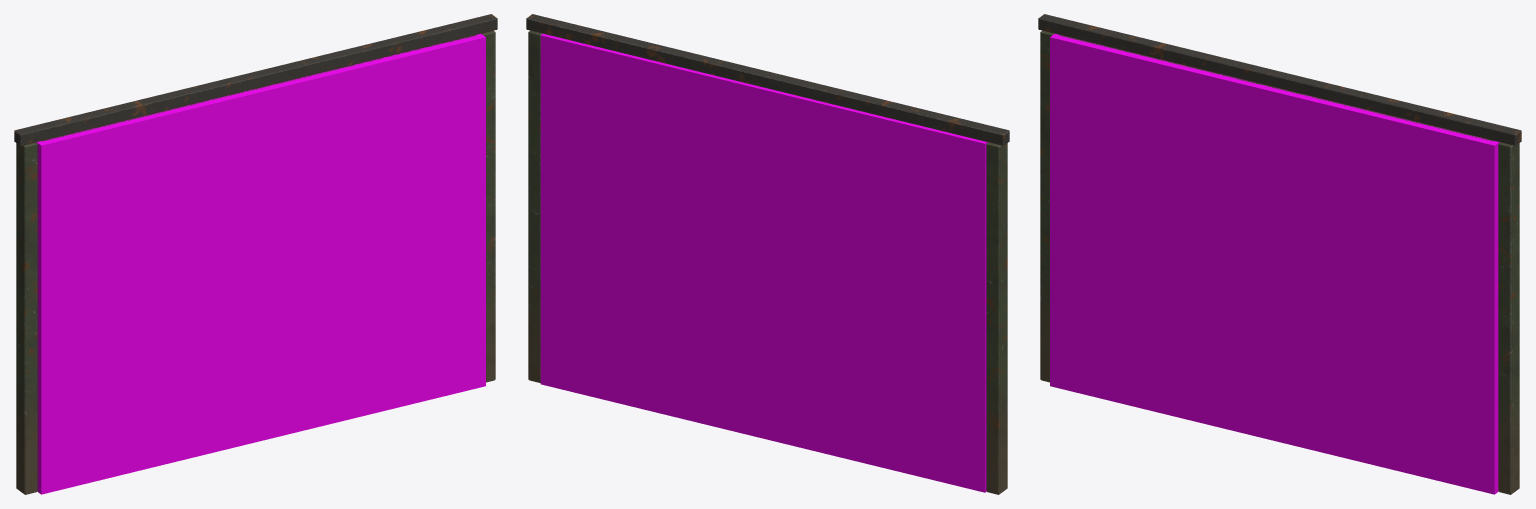
The model's file is prop_door_rail_gate.glb.
The picture shows the model from 3 angles, left to right: view 1: azimuth 30°, elevation 25°; view 2: azimuth 150°, elevation 25°; view 3: azimuth 330°, elevation 25°; orthographic projection.
Visible parts, largest first — view 1: prop_door_rail_gate-col, Frame, Panel; view 2: prop_door_rail_gate-col, Frame; view 3: prop_door_rail_gate-col, Frame, Panel.
Part boxes in pixels (x1,y1,x2,y2): prop_door_rail_gate-col: [36, 33, 485, 494]; Frame: [14, 14, 497, 494]; Panel: [42, 35, 476, 141]; prop_door_rail_gate-col: [540, 33, 987, 492]; Frame: [526, 14, 1009, 494]; prop_door_rail_gate-col: [1050, 33, 1499, 494]; Frame: [1038, 14, 1521, 494]; Panel: [1059, 35, 1493, 141].
Bounding box in the file's own units: 4.3 × 3.1 × 0.2.
Materials: 3 (2 with a texture image).
